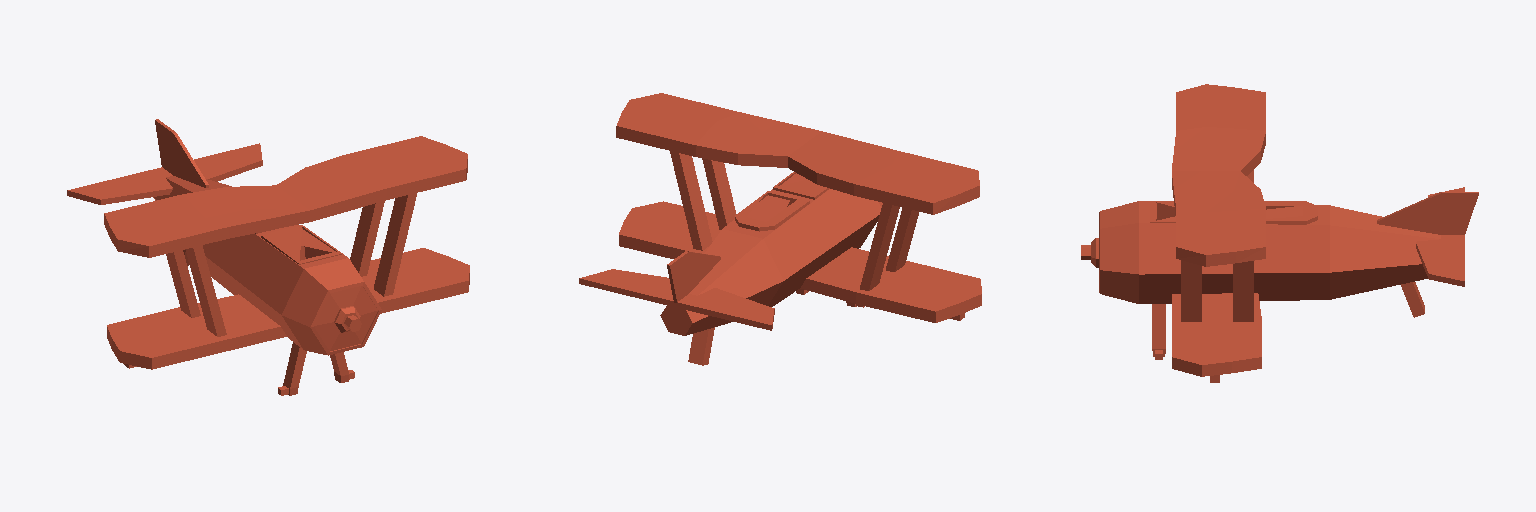
3 views of the same model, side by side, from view 1: azimuth 30°, elevation 25°; view 2: azimuth 150°, elevation 25°; view 3: azimuth 270°, elevation 25° (orthographic).
Parts seen in each view (by area): view 1: Cylinder; view 2: Cylinder; view 3: Cylinder.
Boxes of the visible parts, box(x1,y1,x2,y2) form: Cylinder: box(67, 119, 469, 395); Cylinder: box(579, 93, 981, 365); Cylinder: box(1081, 84, 1478, 382).
Size of the model in its own units: 7.79 by 3.67 by 7.68.
1 materials, 1 textured.